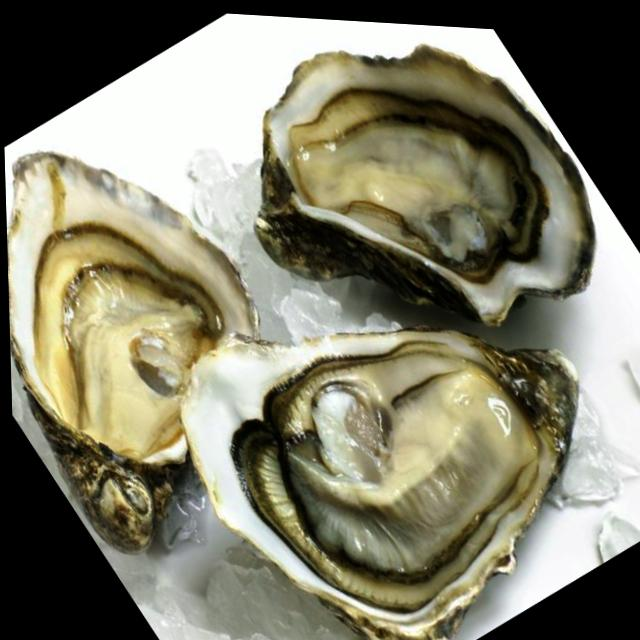Oyster-Open: (180, 329, 581, 640), (253, 44, 597, 329), (7, 163, 257, 542)
